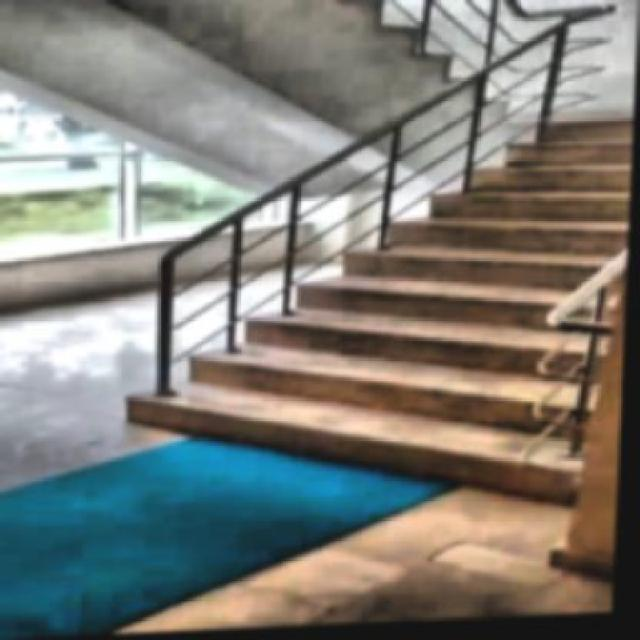stair: (83, 114, 634, 534)
